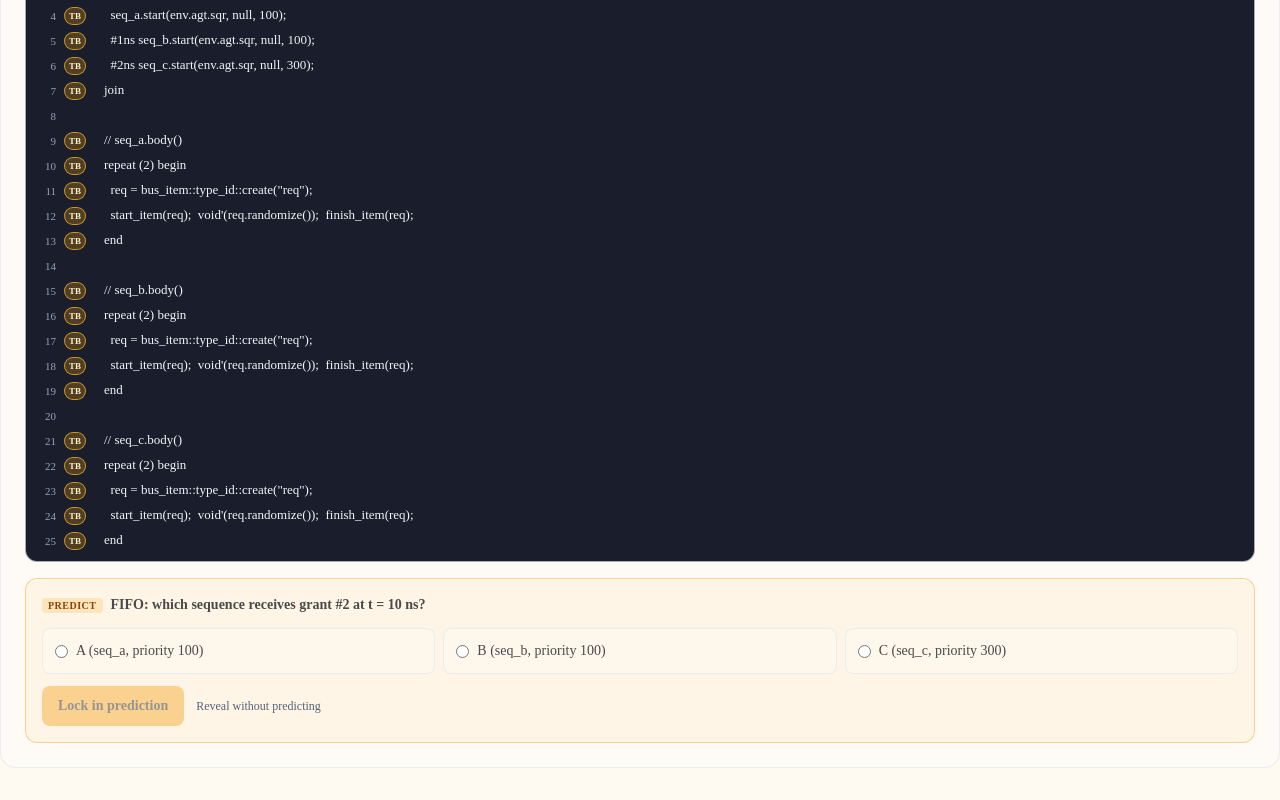
SequencerArbitrationSandbox › hides the grant order until a prediction is committed, then explains every candidate
(page scrolled)
Expected: the text "FIFO: which sequence receives grant #2 at t = 10 ns?" is shown, [110, 596, 425, 612]
Expected: the text "Grant order:" is not shown
Click the radio button labelled "C (seq_c, priority 300)".
click(864, 651)  # box [858, 644, 871, 658]
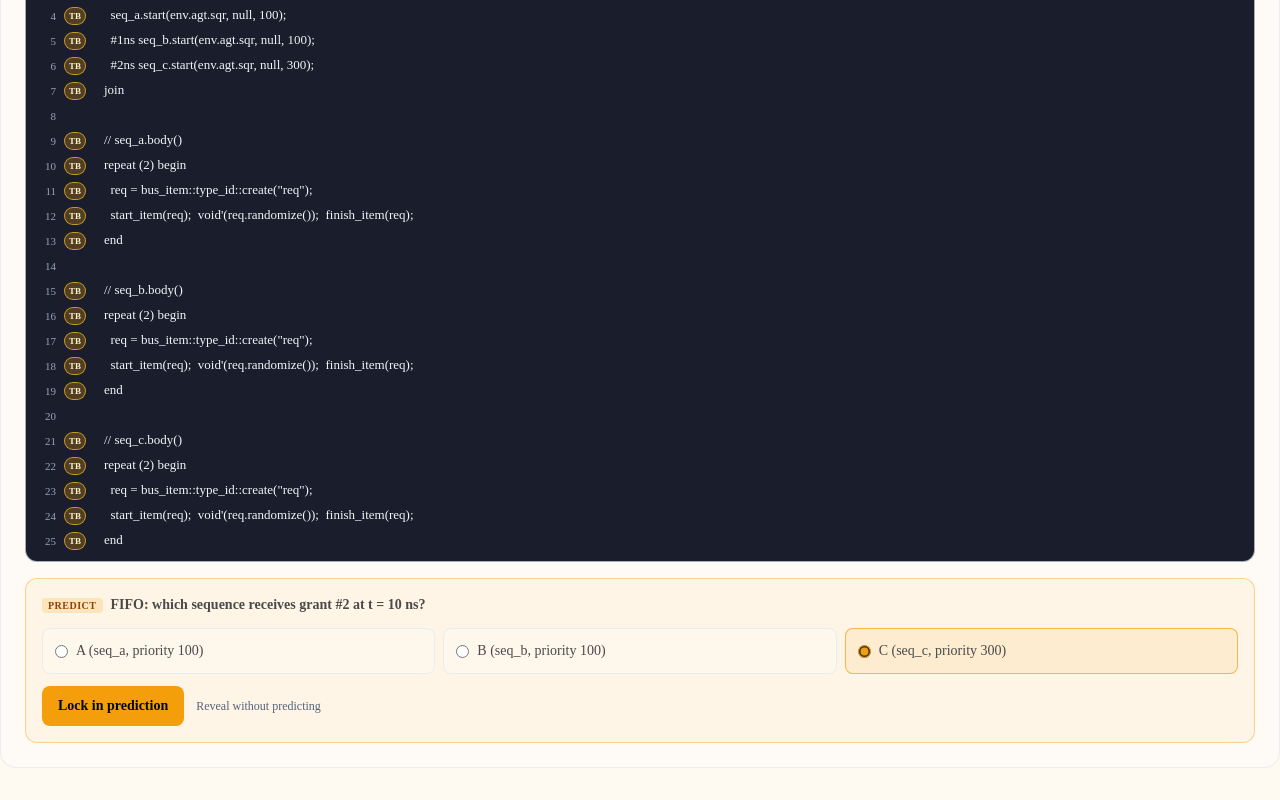
Click the button "Lock in prediction".
click(113, 706)  # box [42, 686, 184, 726]
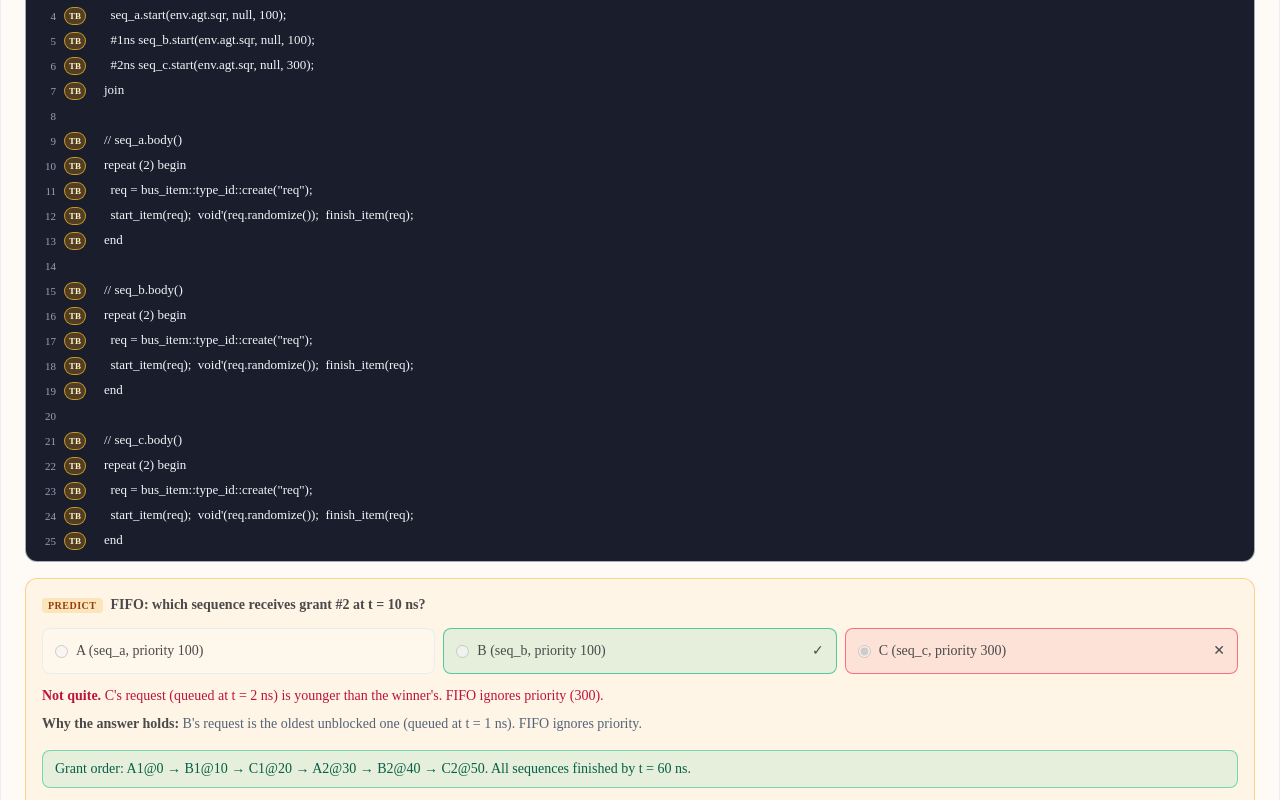
Result: the text "Not quite." is shown at [42, 688, 105, 702]
Result: the text "FIFO ignores priority" is shown at [105, 688, 604, 702]
Result: the text "Grant order: A1@0 → B1@10 → C1@20 → A2@30 → B2@40 → C2@50" is shown at [42, 750, 1238, 788]
